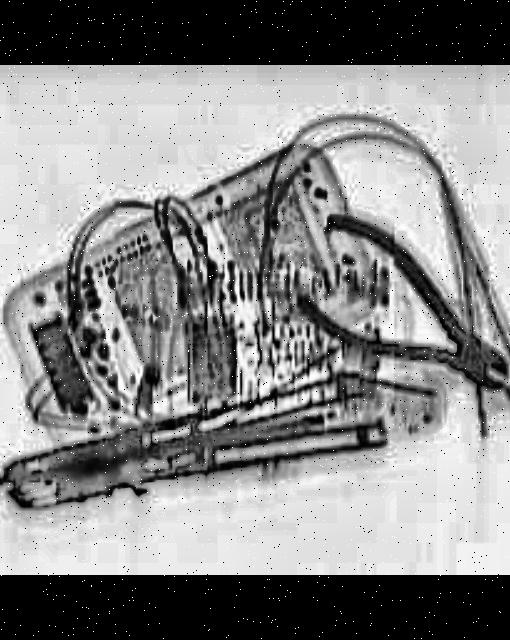Pliers: (269, 201, 510, 420)
